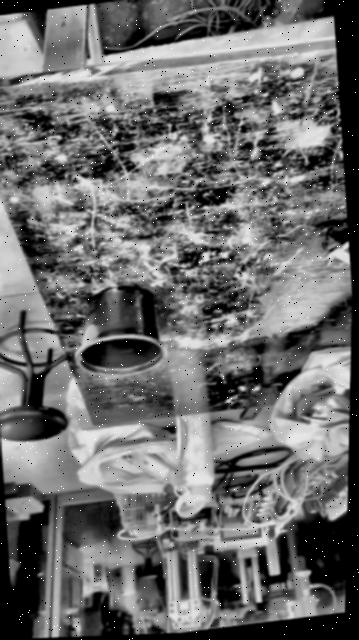pot: (70, 282, 166, 380)
